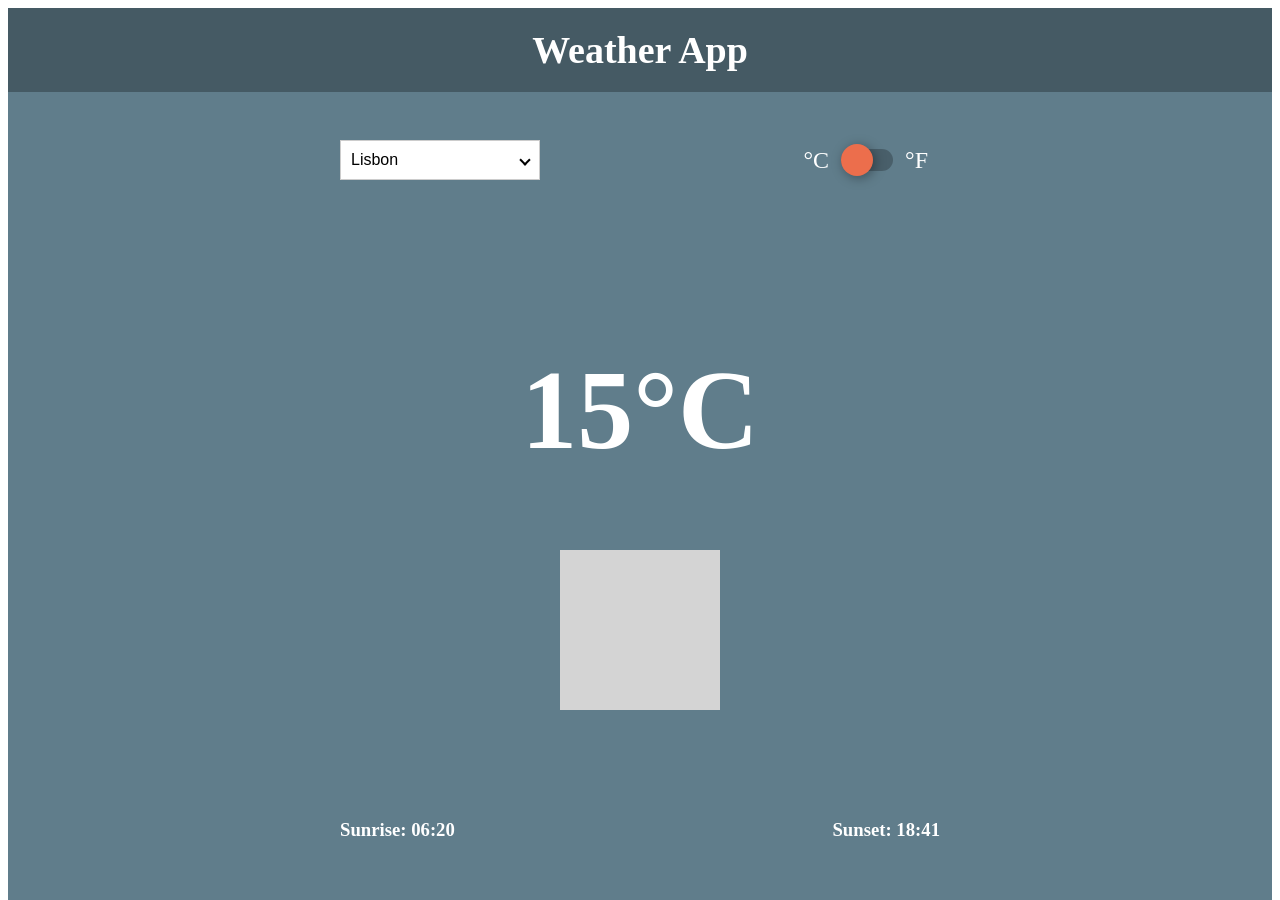
WeatherPage › should render correct temperature and unit on switch toggle
The image size is (1280, 900).
Expected: the heading with test id "temperature" reads "15°C", top-left (521, 348), bottom-right (759, 472)
Click the checkbox with test id "switch-input" at (866, 160), box top-left (803, 146), bottom-right (928, 172)
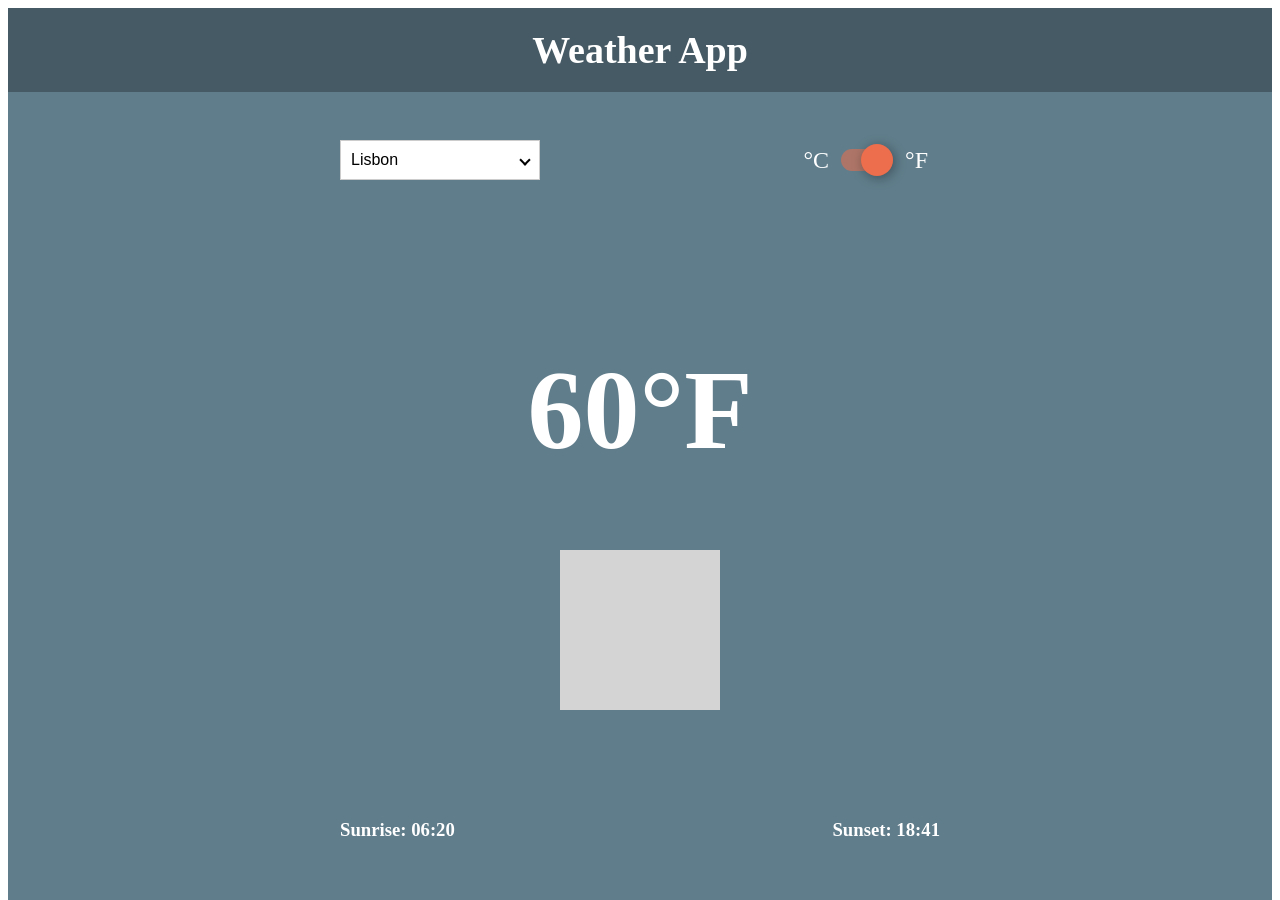
Expected: the heading with test id "temperature" reads "60°F", top-left (527, 348), bottom-right (753, 472)
